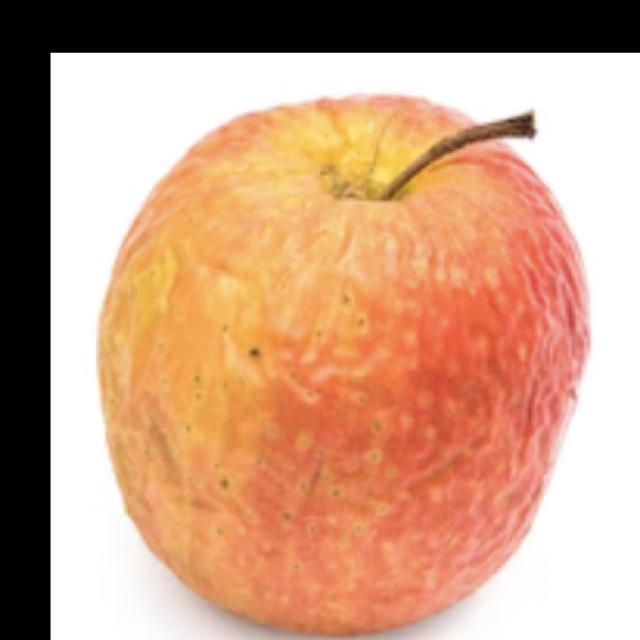Rotten: (115, 98, 568, 640)
